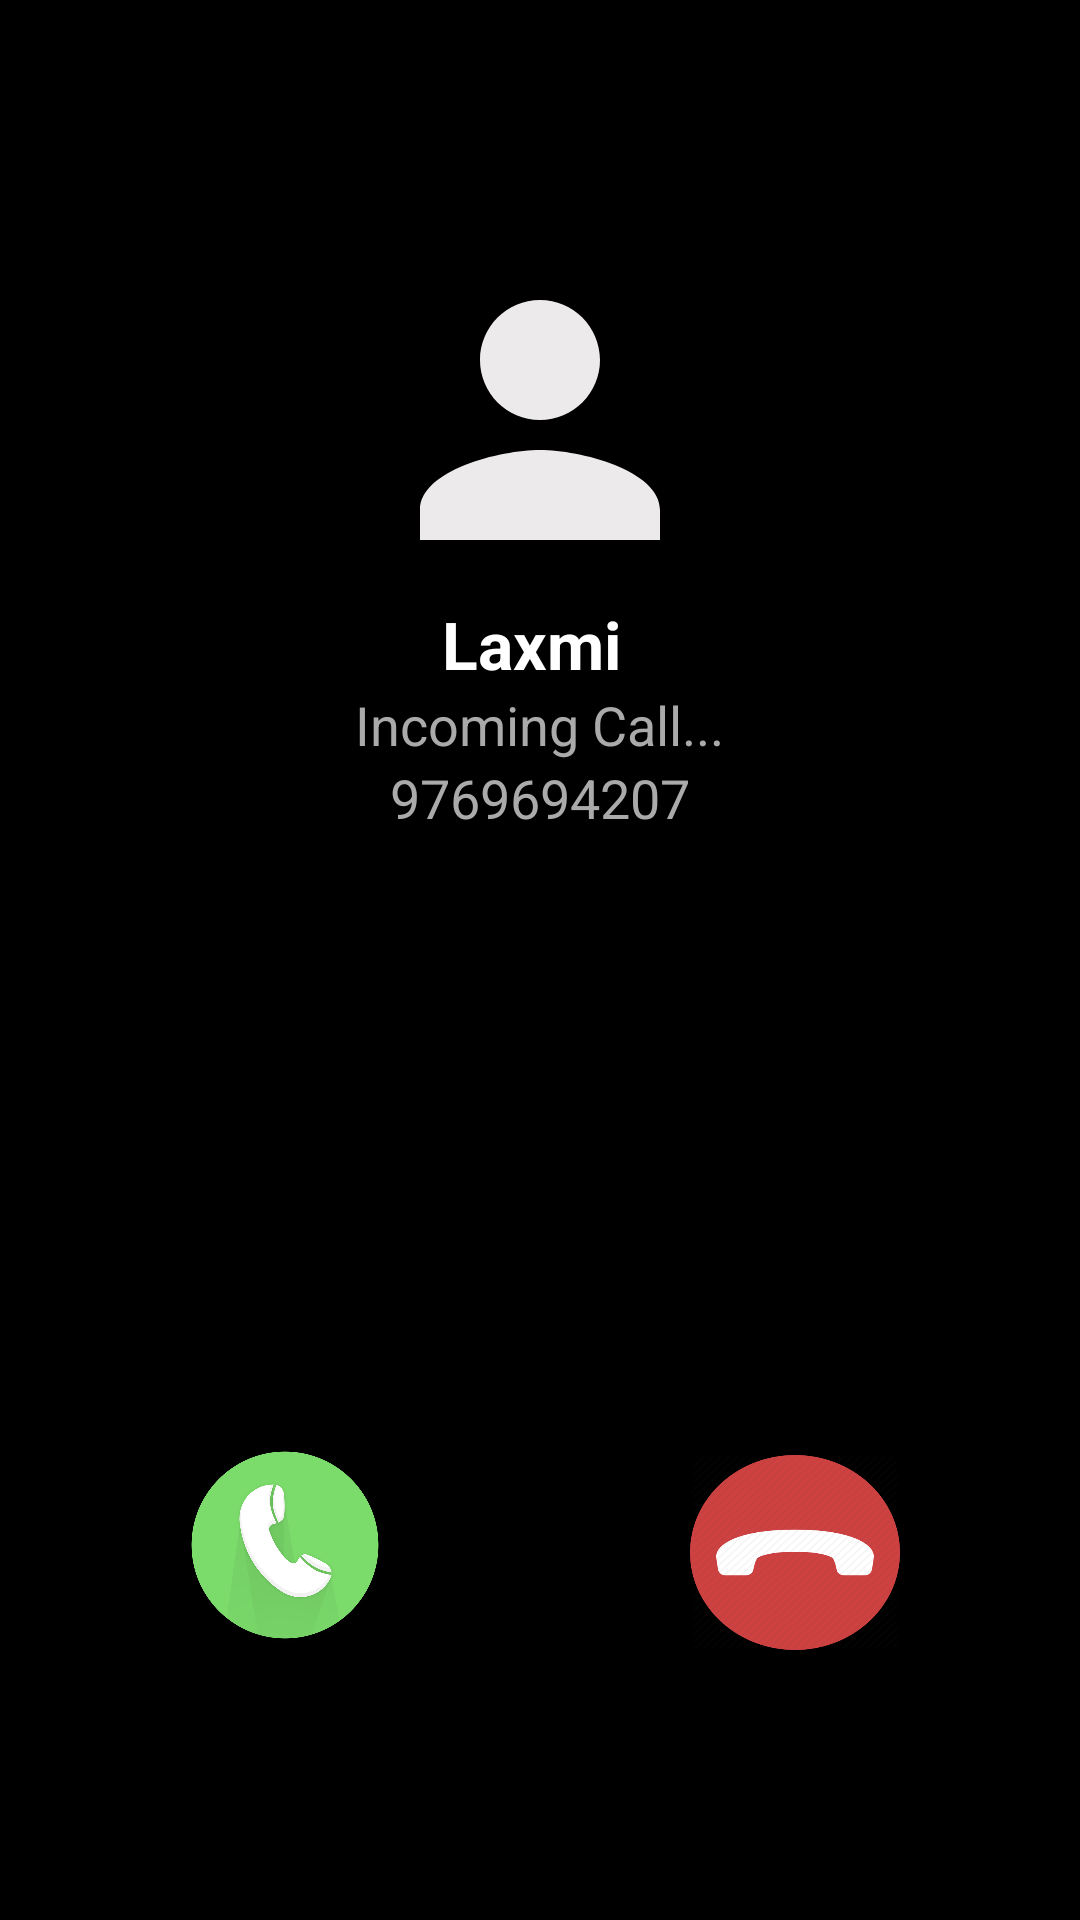

Screen size 1080*1920. Icon name, then its box in pixels as rect(x1, y1, x2, y2):
acept: rect(191, 1451, 379, 1639)
person: rect(420, 300, 660, 540)
reject: rect(690, 1455, 900, 1650)
